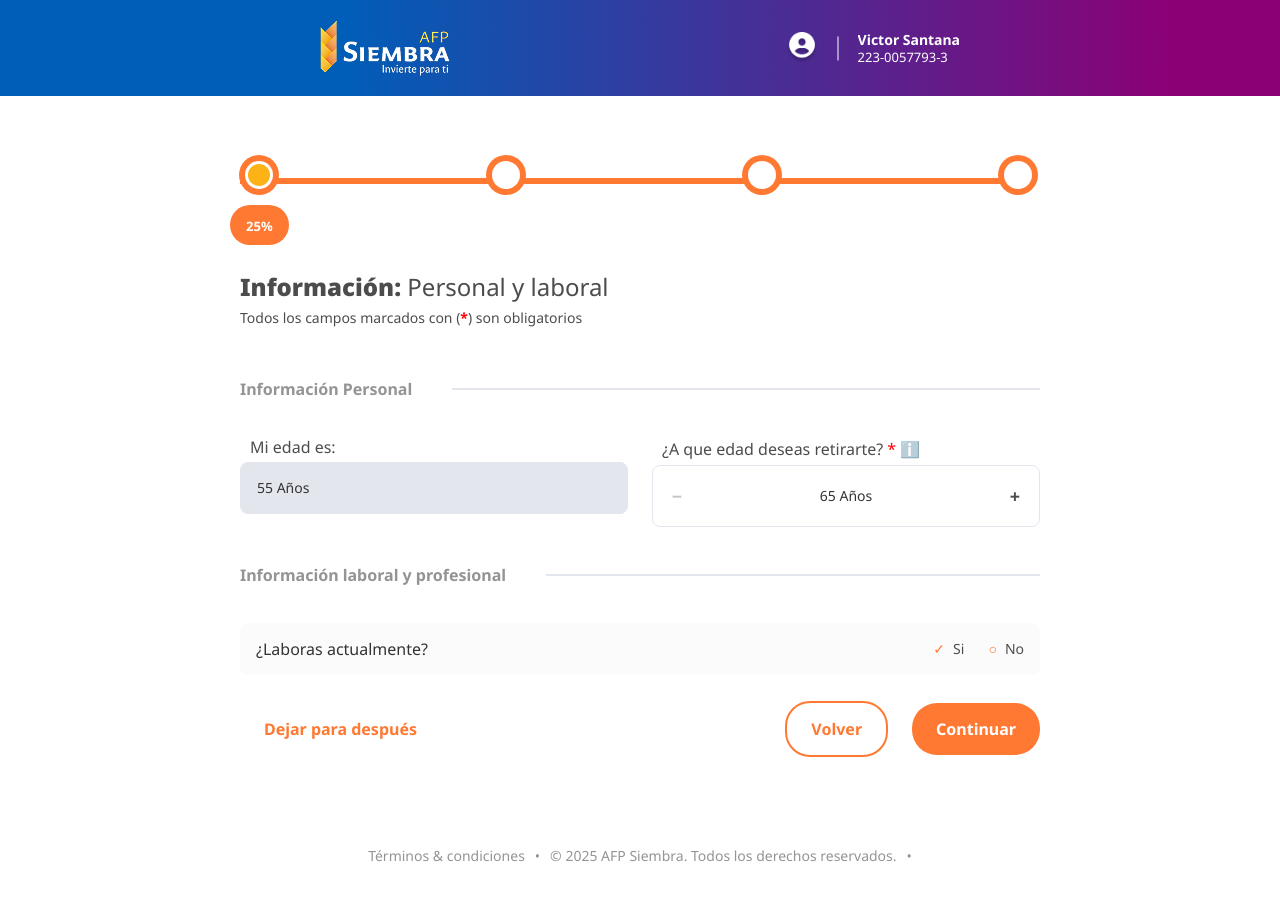
Test case: Step1 Component › Working Status Radio Buttons › can change to "No" (not working)
Click the radio button labelled "○ No" at (1006, 649), box [988,639,1024,659]
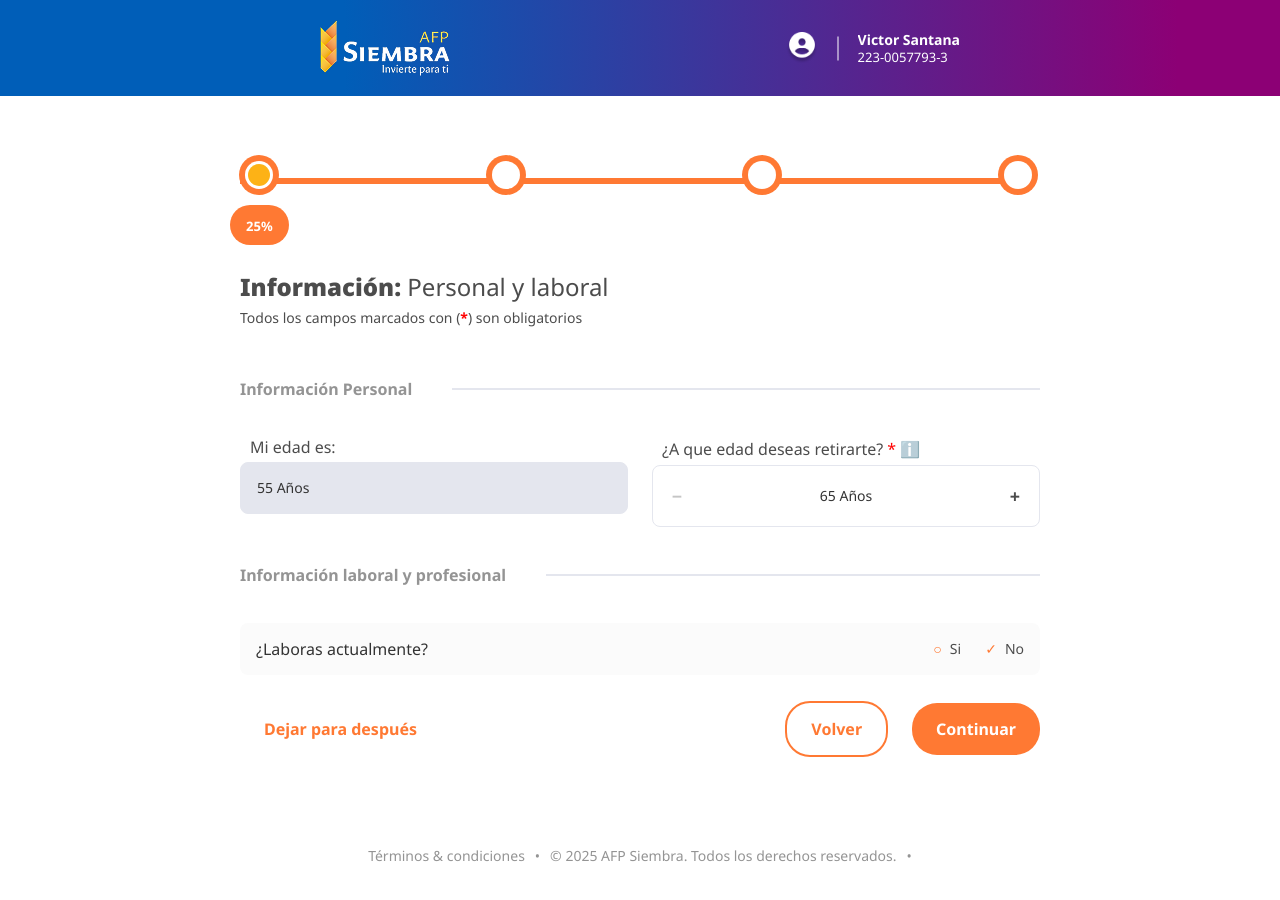
Expected: the radio button labelled "✓ No" is checked, [985,639,1024,659]
Expected: the radio button labelled "○ Si" is not checked, [933,639,961,659]
